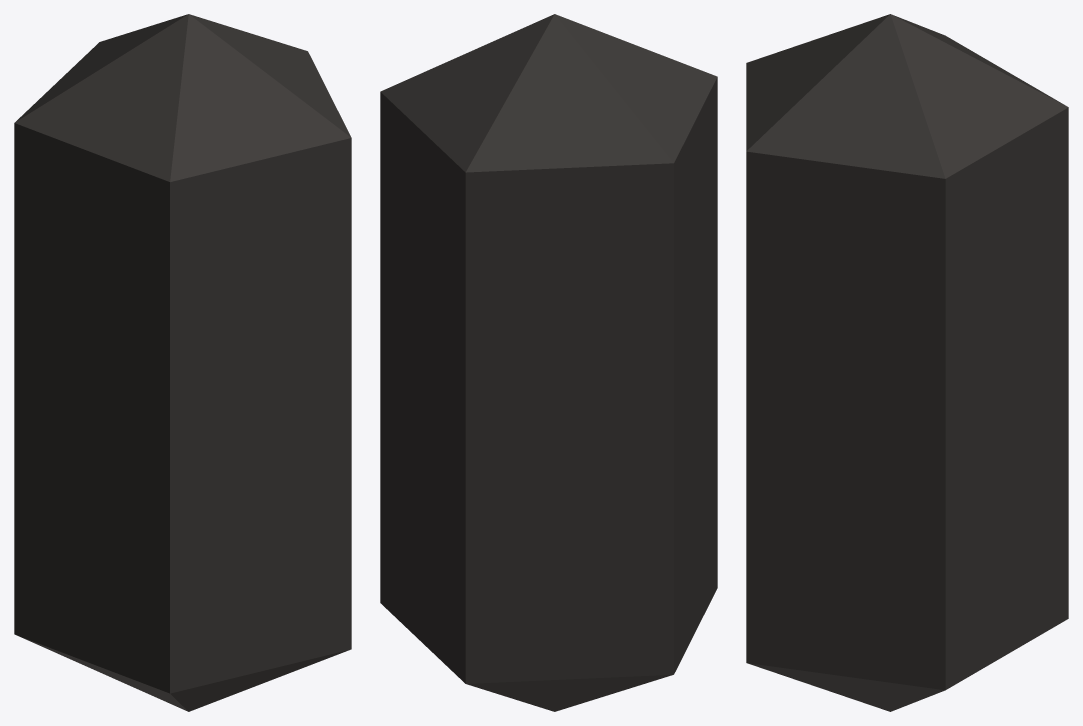
The model's file is forth3.fbx.
The picture shows the model from 3 angles, left to right: view 1: azimuth 30°, elevation 25°; view 2: azimuth 150°, elevation 25°; view 3: azimuth 270°, elevation 25°; orthographic projection.
Visible parts, largest first — view 1: Sphere.001; view 2: Sphere.001; view 3: Sphere.001.
Boxes of the visible parts, x1=… form: Sphere.001: x1=14, y1=14, x2=351, y2=711; Sphere.001: x1=380, y1=14, x2=717, y2=711; Sphere.001: x1=746, y1=14, x2=1068, y2=711.
Size of the model in its own units: 51.97 by 118 by 49.42.
